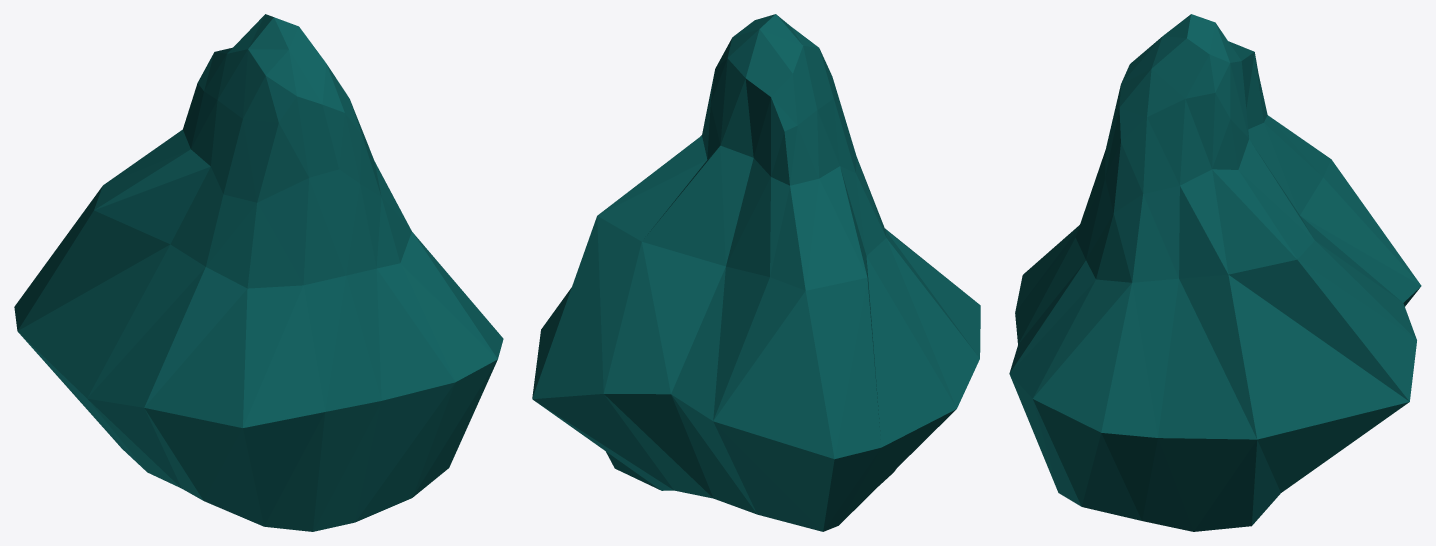
File: obelisk2.fbx
3 renders of one model, left to right at view 1: azimuth 30°, elevation 25°; view 2: azimuth 150°, elevation 25°; view 3: azimuth 270°, elevation 25°, orthographic. The views are drawn at different scales.
Visible parts, largest first — view 1: Cube; view 2: Cube; view 3: Cube.
Boxes of the visible parts, x1,y1,x2,y2 form: Cube: (14, 14, 503, 531); Cube: (532, 14, 980, 531); Cube: (1009, 14, 1421, 531).
Bounding box in the file's own units: 560 × 649 × 532.
